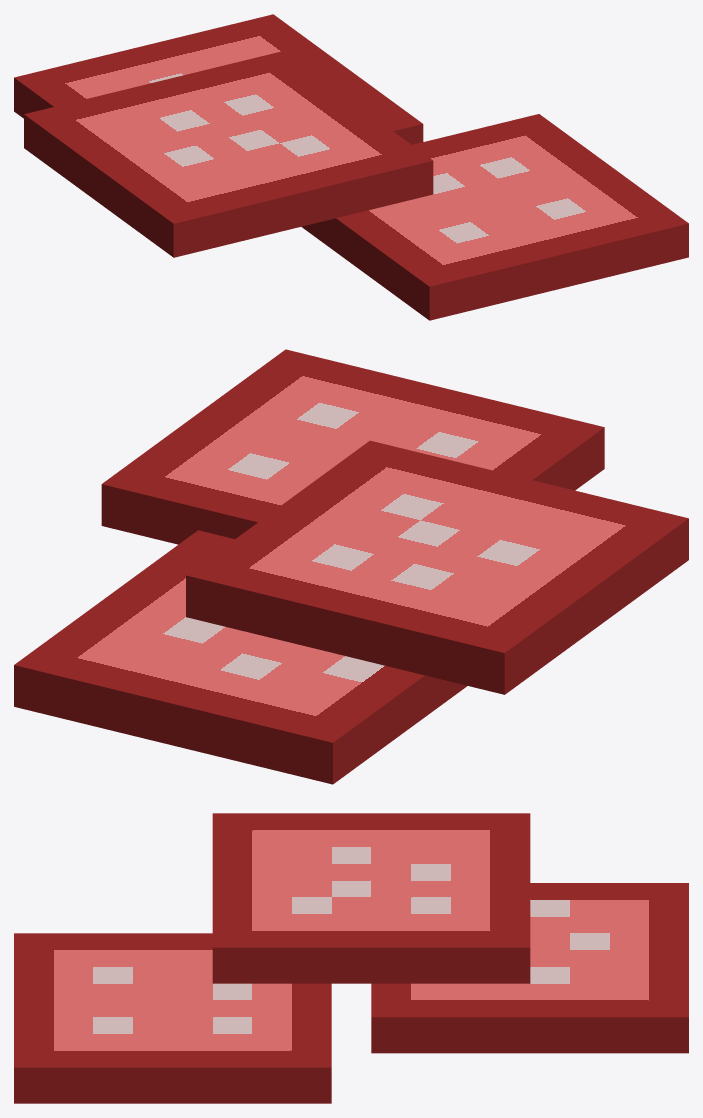
File: Rosii.fbx
3 renders of one model, top to bottom at view 1: azimuth 30°, elevation 25°; view 2: azimuth 150°, elevation 25°; view 3: azimuth 270°, elevation 25°, orthographic. The views are drawn at different scales.
Parts seen in each view (by area): view 1: cube, cube_1, cube_2; view 2: cube, cube_2, cube_1; view 3: cube, cube_1, cube_2.
Part boxes in pixels (box(x1,y1,x2,y2)): cube: box(24, 51, 433, 257); cube_1: box(301, 114, 688, 320); cube_2: box(14, 14, 423, 144); cube: box(186, 440, 688, 694); cube_2: box(14, 530, 467, 784); cube_1: box(101, 349, 604, 544); cube: box(212, 813, 530, 983); cube_1: box(14, 933, 331, 1103); cube_2: box(371, 883, 688, 1053).
Size of the model in its own units: 81.25 by 12.5 by 106.
1 material, 1 textured.
